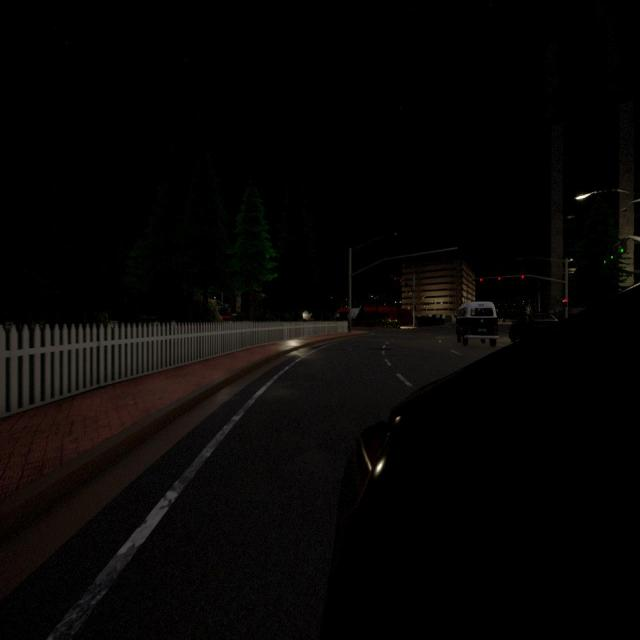Vehicle: (326, 287, 640, 640), (455, 302, 499, 348), (508, 312, 562, 342)
traffic_light: (620, 239, 627, 254), (611, 249, 615, 260), (564, 298, 567, 308), (604, 255, 606, 264), (480, 278, 483, 282), (414, 304, 416, 310), (522, 274, 524, 279), (498, 277, 501, 280), (394, 277, 396, 281), (400, 279, 402, 282)
